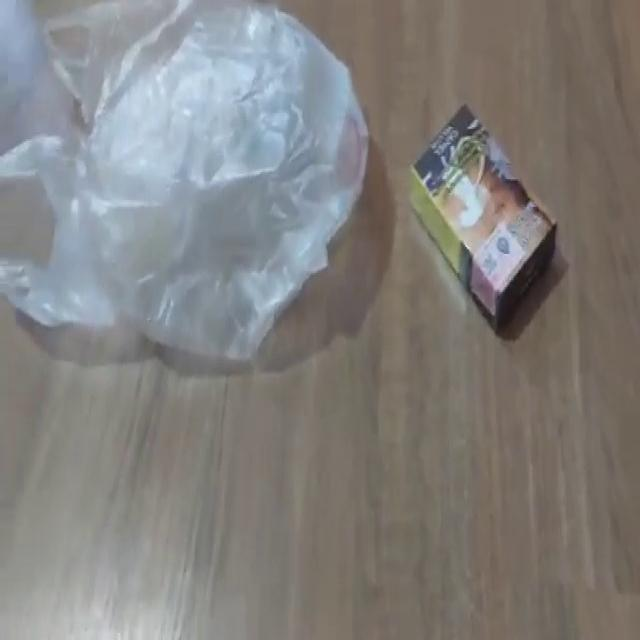Anorganik: (1, 1, 375, 368)
Organik: (407, 98, 560, 339)
